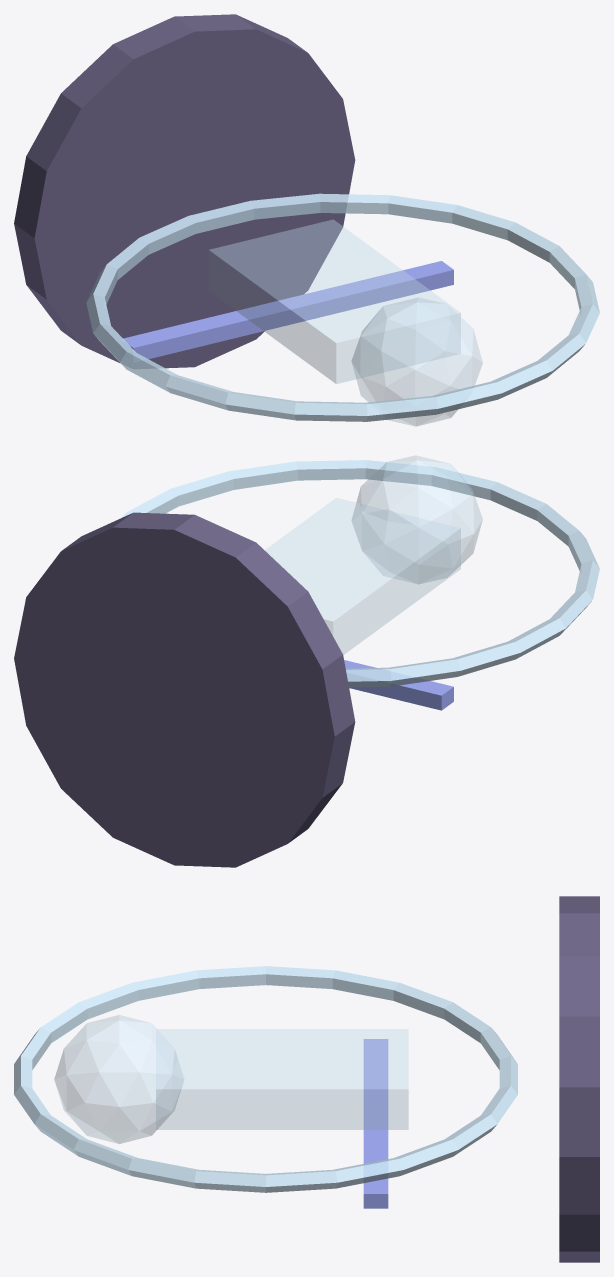
Rendered from 07_support_npc_aura.glb.
3 views of the same model, one above another, from view 1: azimuth 30°, elevation 25°; view 2: azimuth 150°, elevation 25°; view 3: azimuth 270°, elevation 25° (orthographic).
Visible parts, largest first — view 1: npc_support_base, support_holo_body, ally_command_ring, support_holo_head, assist_beam_marker; view 2: npc_support_base, support_holo_body, ally_command_ring, support_holo_head, assist_beam_marker; view 3: support_holo_body, ally_command_ring, npc_support_base, support_holo_head, assist_beam_marker.
Part boxes in pixels (box(x1,y1,x2,y2)): npc_support_base: box(14, 14, 355, 368); support_holo_body: box(209, 219, 460, 383); ally_command_ring: box(86, 193, 599, 421); support_holo_head: box(351, 297, 482, 426); assist_beam_marker: box(121, 261, 453, 362); npc_support_base: box(14, 512, 355, 867); support_holo_body: box(265, 498, 460, 654); ally_command_ring: box(121, 460, 599, 687); support_holo_head: box(352, 455, 482, 583); assist_beam_marker: box(344, 660, 453, 710); support_holo_body: box(156, 1029, 408, 1129); ally_command_ring: box(14, 966, 517, 1192); npc_support_base: box(559, 896, 599, 1262); support_holo_head: box(54, 1015, 183, 1143); assist_beam_marker: box(363, 1039, 388, 1208).
Size of the model in its own units: 1.25 by 0.9 by 1.44.
